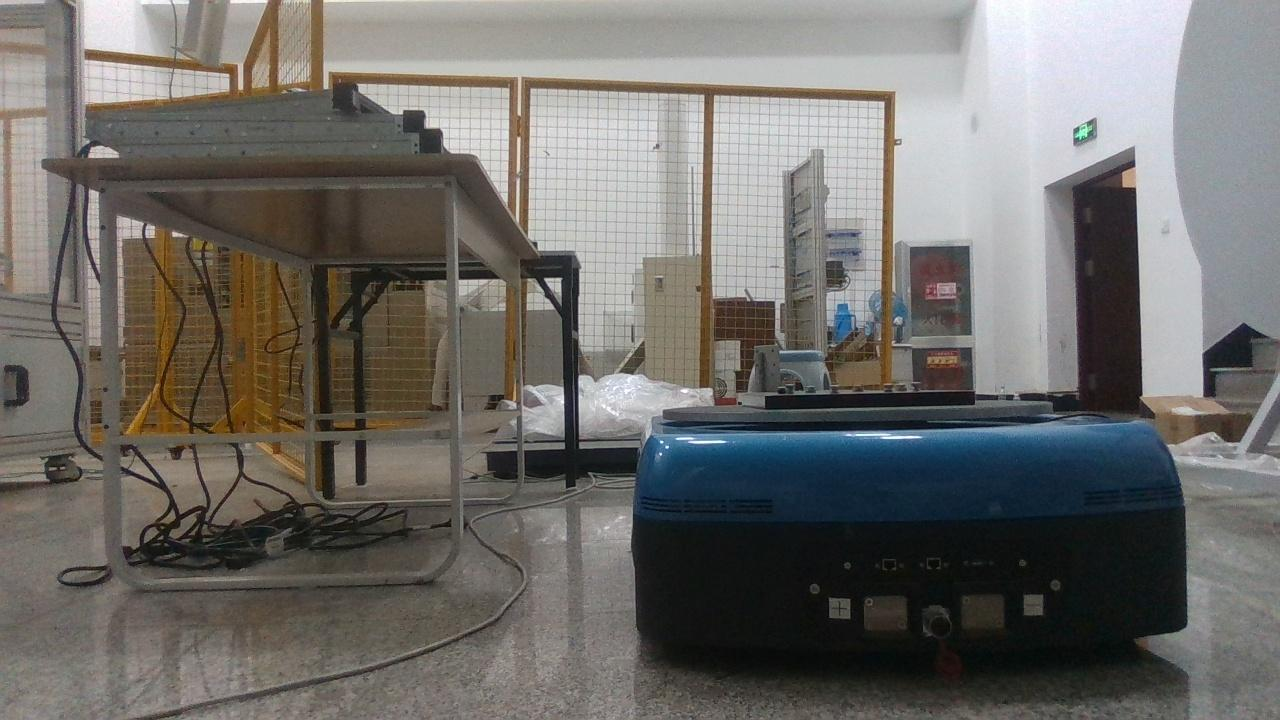AGV: (632, 391, 1189, 679)
